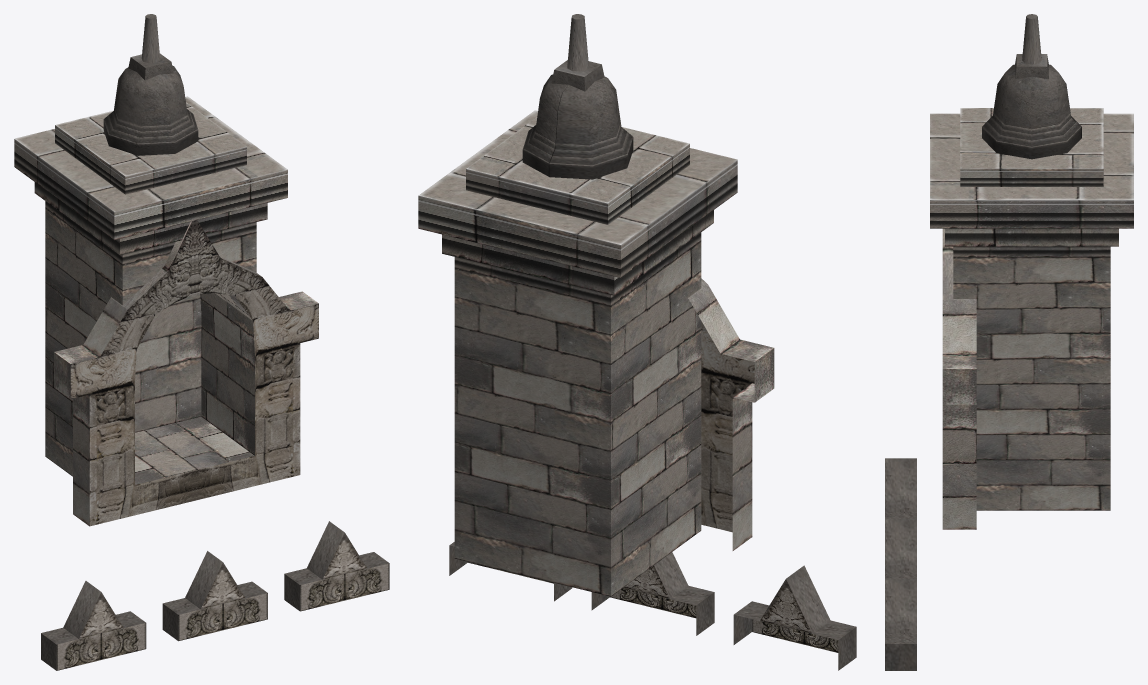
The model's file is Modul_A.FBX.
3 renders of one model, left to right at view 1: azimuth 30°, elevation 25°; view 2: azimuth 150°, elevation 25°; view 3: azimuth 270°, elevation 25°, orthographic. The views are drawn at different scales.
Visible parts, largest first — view 1: Modul_A; view 2: Modul_A; view 3: Modul_A.
Boxes of the visible parts, x1,y1,x2,y2 form: Modul_A: (14,14,389,670); Modul_A: (418,14,856,670); Modul_A: (885,14,1133,670).
Size of the model in its own units: 2.32 by 3.74 by 1.48.
